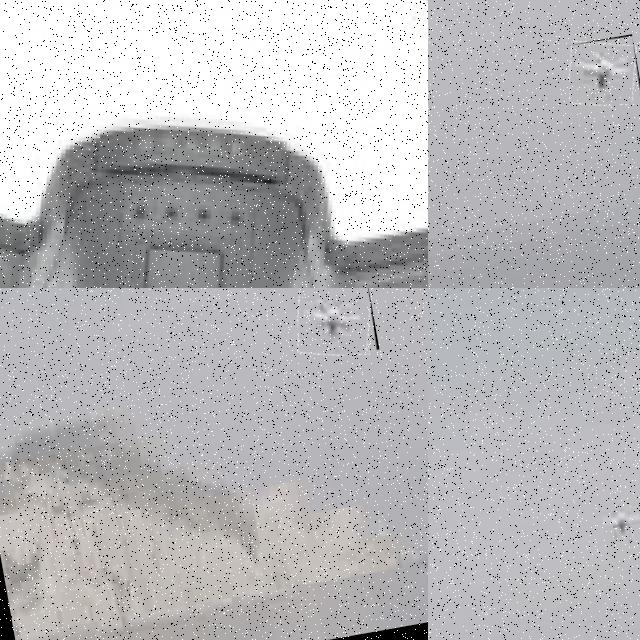drone: (0, 0, 428, 288), (289, 288, 379, 362), (563, 33, 640, 111)
